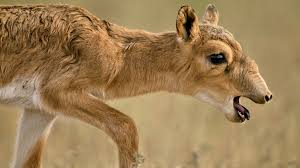saiga: (1, 3, 272, 168)
